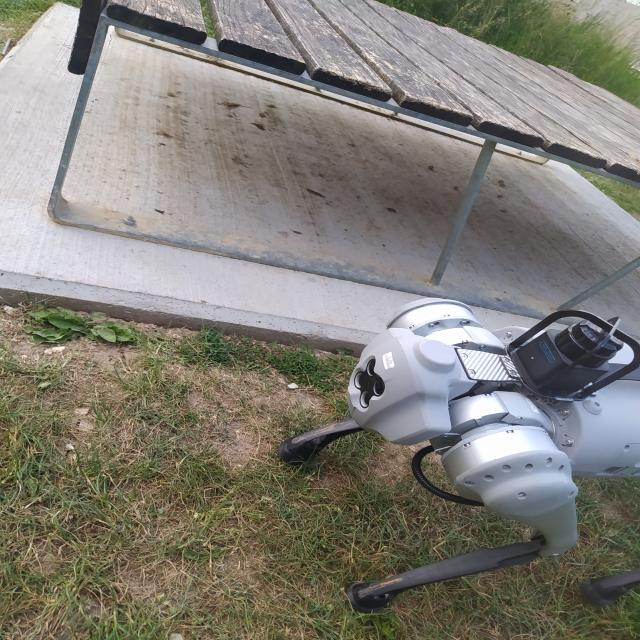unitree-go1-robot: (267, 289, 640, 640)
